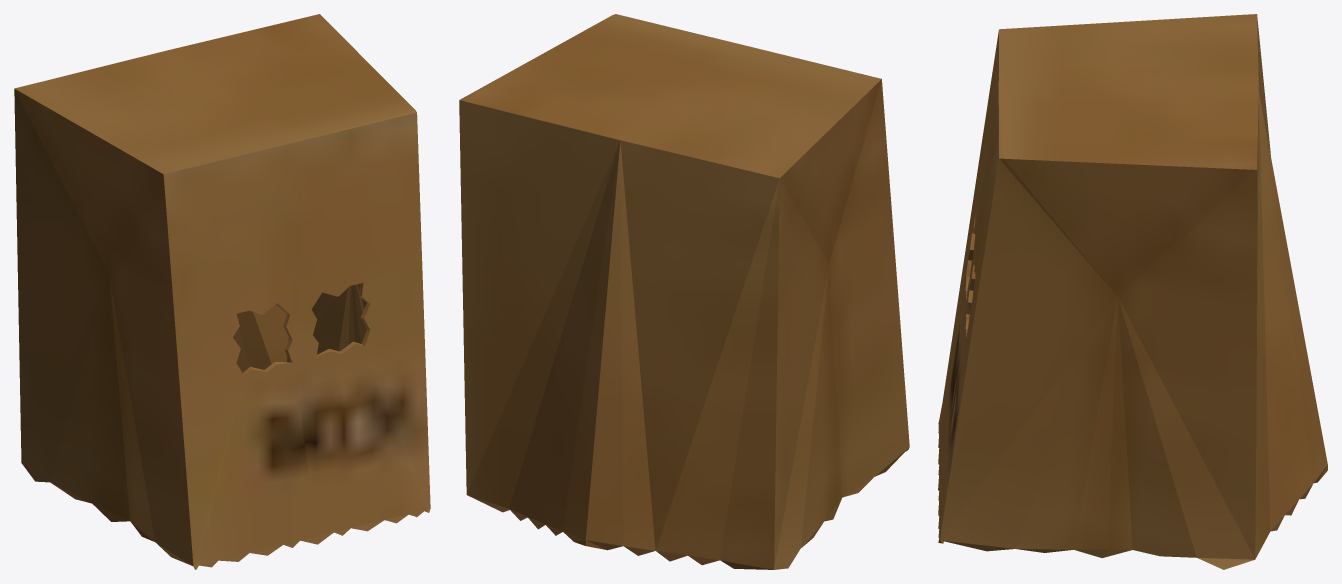
The model's file is paperbag.fbx.
3 views of the same model, side by side, from view 1: azimuth 30°, elevation 25°; view 2: azimuth 150°, elevation 25°; view 3: azimuth 270°, elevation 25° (orthographic). The views are drawn at different scales.
Visible parts, largest first — view 1: paperbag; view 2: paperbag; view 3: paperbag.
Boxes of the visible parts, left/top/right/bottom form: paperbag: left=14, top=14, right=430, bottom=569; paperbag: left=459, top=14, right=909, bottom=569; paperbag: left=938, top=14, right=1327, bottom=569.
Bounding box in the file's own units: 32.29 × 38.9 × 34.12.
